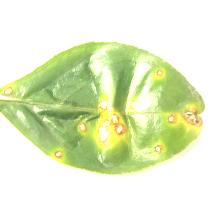canker: (63, 95, 207, 161)
